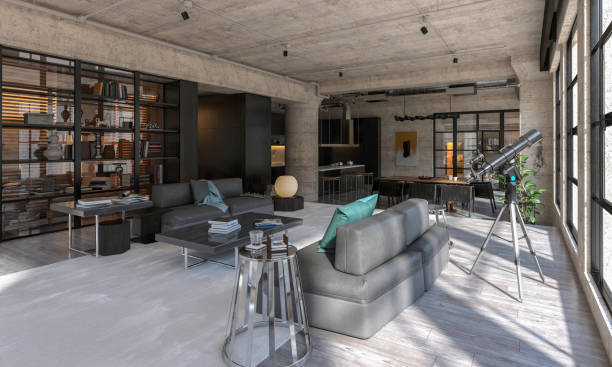dining table set: (376, 170, 496, 215)
sofa: (289, 191, 453, 342), (149, 175, 275, 229)
table: (151, 210, 304, 271), (51, 196, 153, 257)
